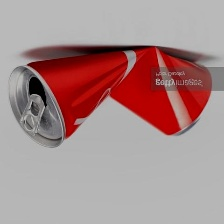can: (5, 42, 216, 150)
